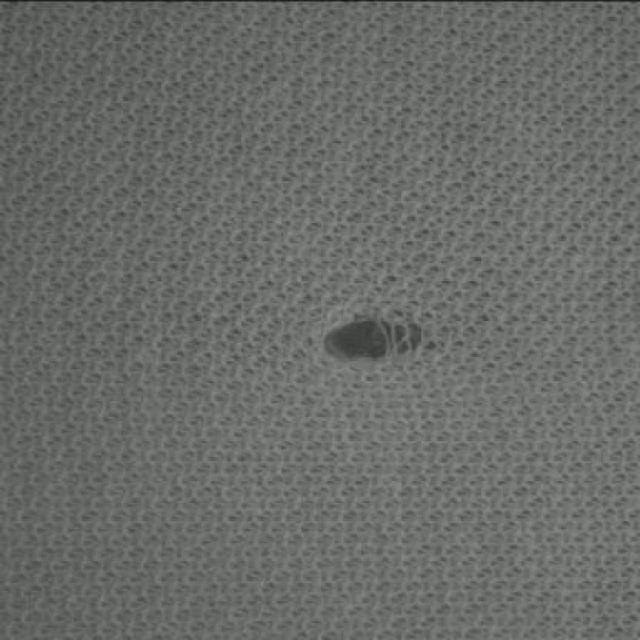Hole: (325, 318, 423, 359)
